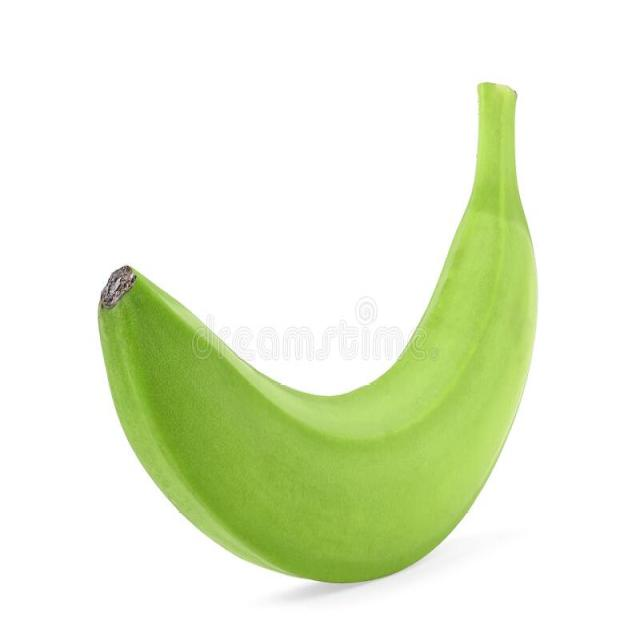non_orange: (91, 73, 546, 596)
